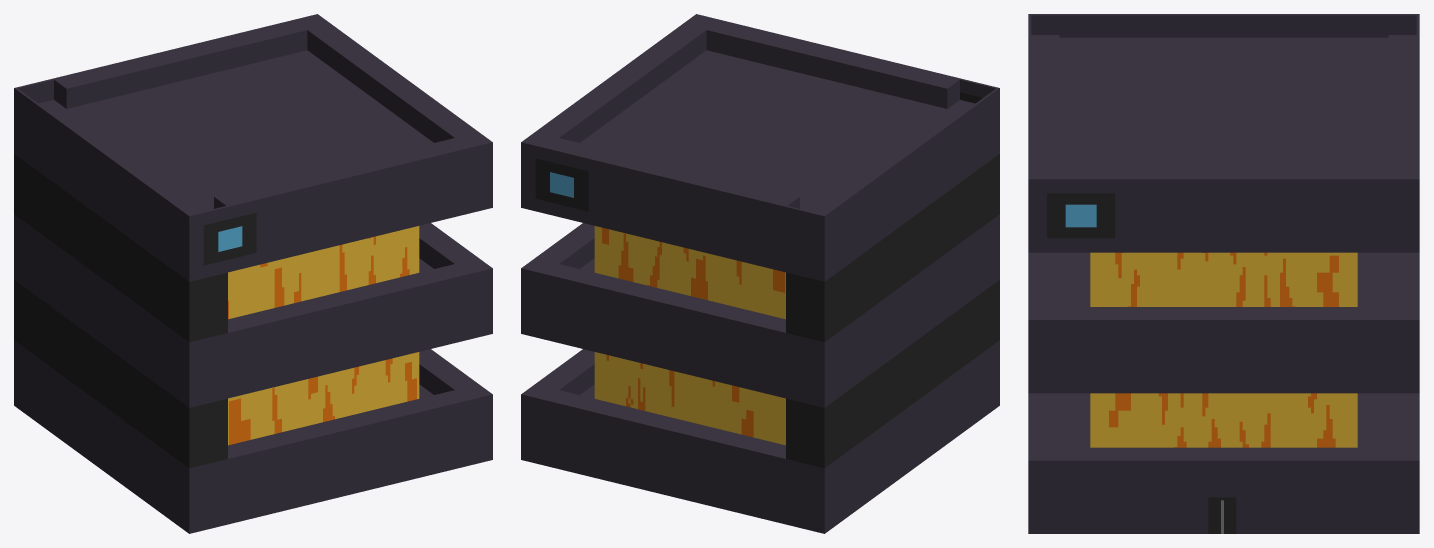
File: Megabuilding2-1.obj
The picture shows the model from 3 angles, left to right: view 1: azimuth 30°, elevation 25°; view 2: azimuth 150°, elevation 25°; view 3: azimuth 270°, elevation 25°; orthographic projection. The views are drawn at different scales.
Bounding box in the file's own units: 12.6 × 12.6 × 12.6.
1 material, 1 textured.
